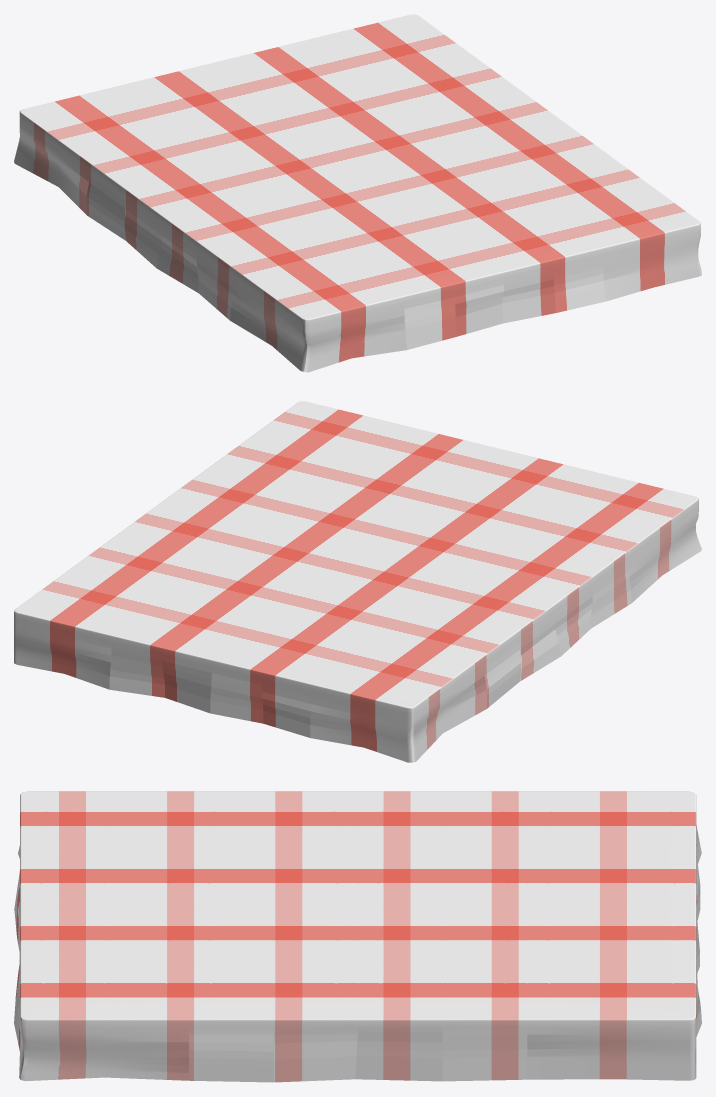
File: TablePlatform.fbx
The picture shows the model from 3 angles, top to bottom: view 1: azimuth 30°, elevation 25°; view 2: azimuth 150°, elevation 25°; view 3: azimuth 270°, elevation 25°; orthographic projection. The views are drawn at different scales.
Visible parts, largest first — view 1: pCube1; view 2: pCube1; view 3: pCube1.
Boxes of the visible parts, x1,y1,x2,y2 form: pCube1: (14,14,701,372); pCube1: (14,401,701,762); pCube1: (14,791,701,1082).
Size of the model in its own units: 81.5 by 10.04 by 102.
